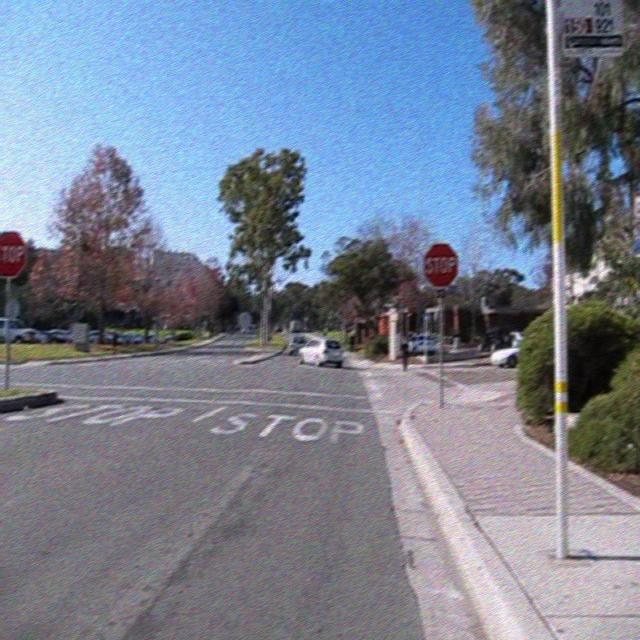stop_sign: (422, 240, 458, 288)
